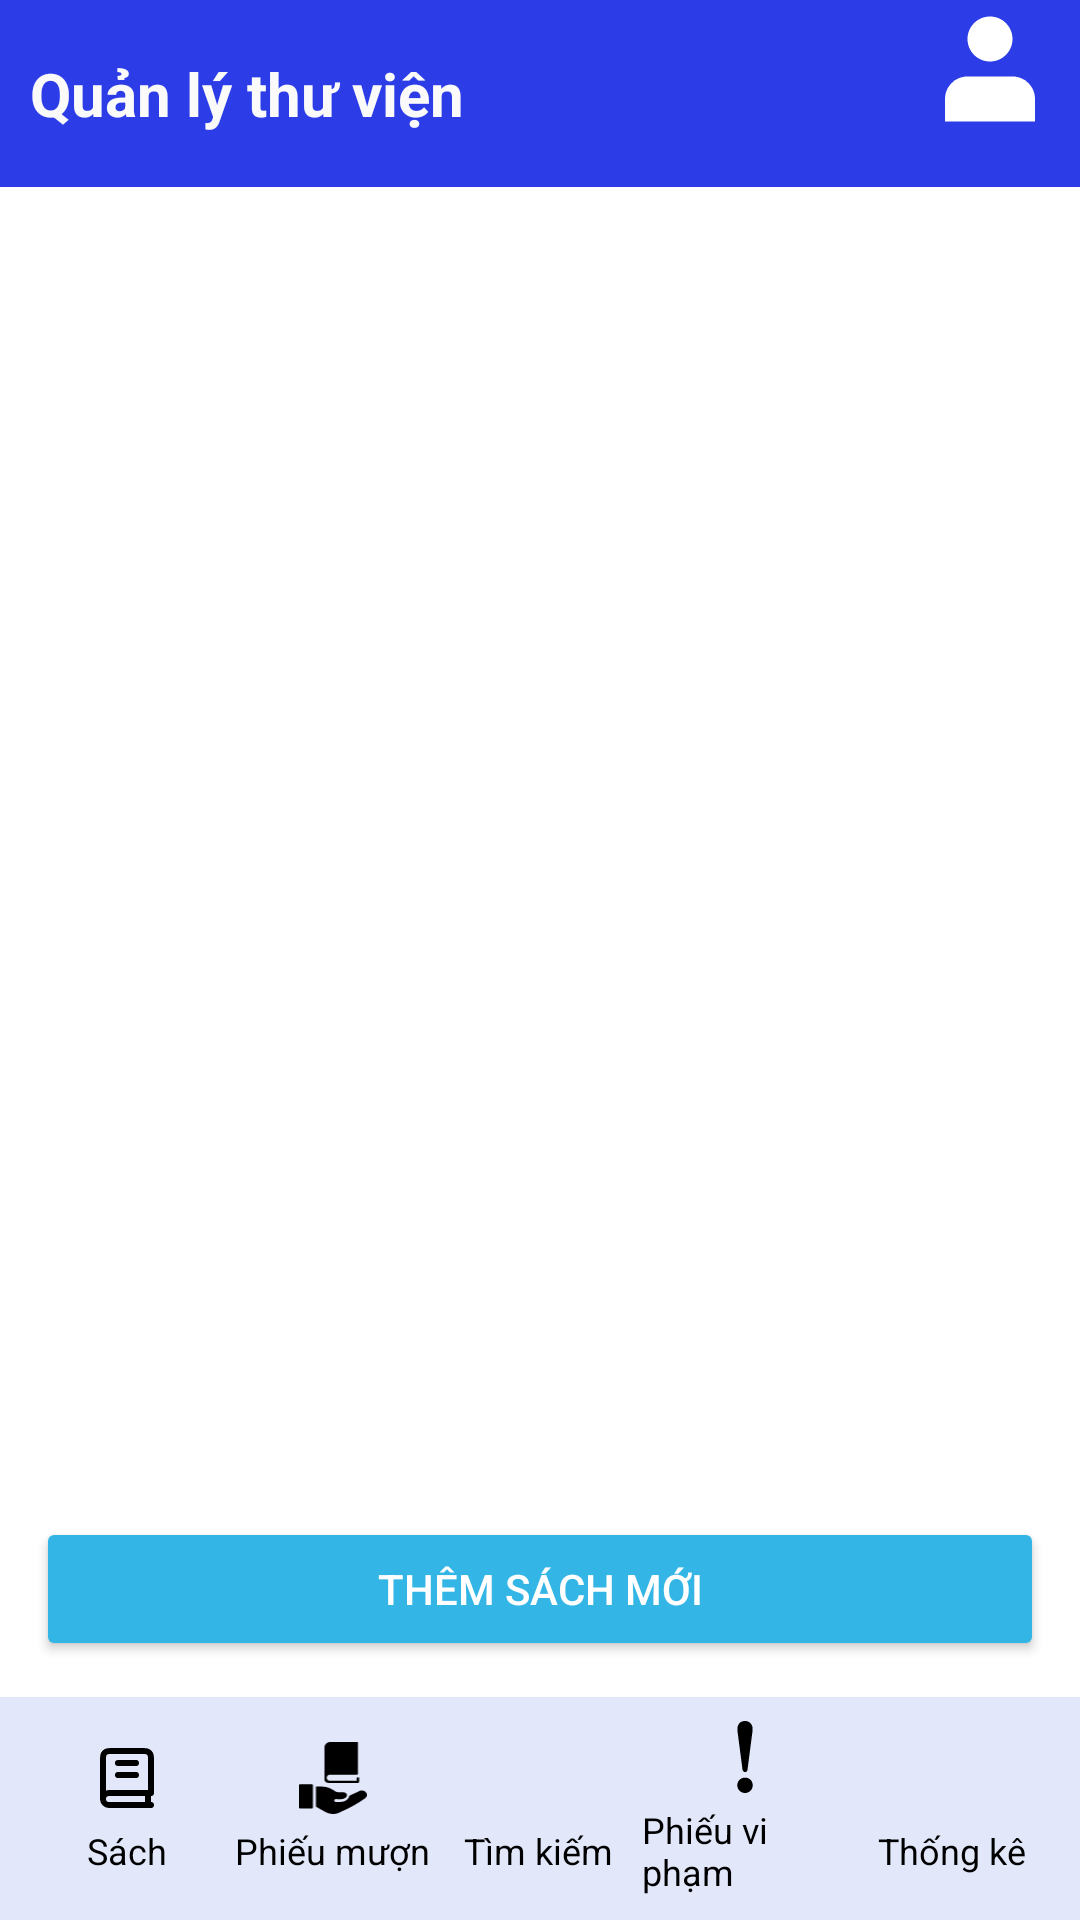

Point at icon controls on the screen. Image size 1080×1920, points as point (x, y).
Admin1: point (990, 69)
violate: point (745, 1757)
